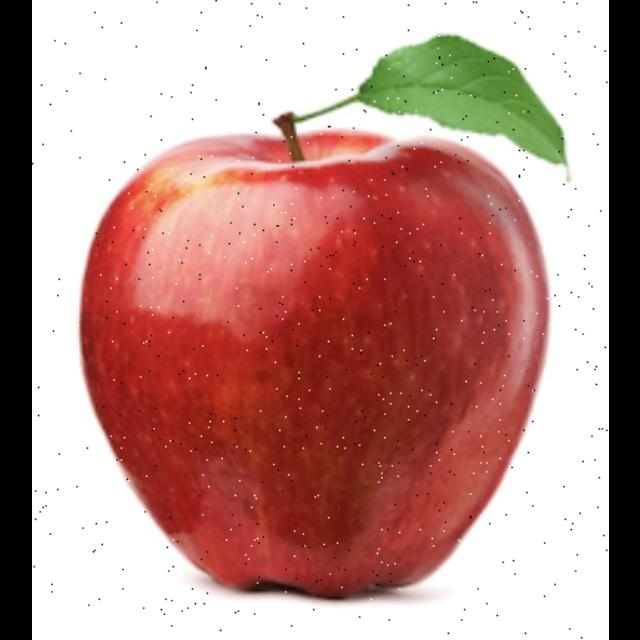Apel Segar: (75, 114, 552, 601)
